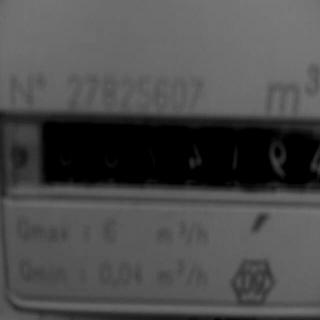1: (52, 127, 84, 173), (96, 127, 124, 173)
2: (223, 133, 246, 178)
5: (181, 133, 208, 176)
8: (137, 130, 167, 177)
:: (265, 138, 292, 180)
